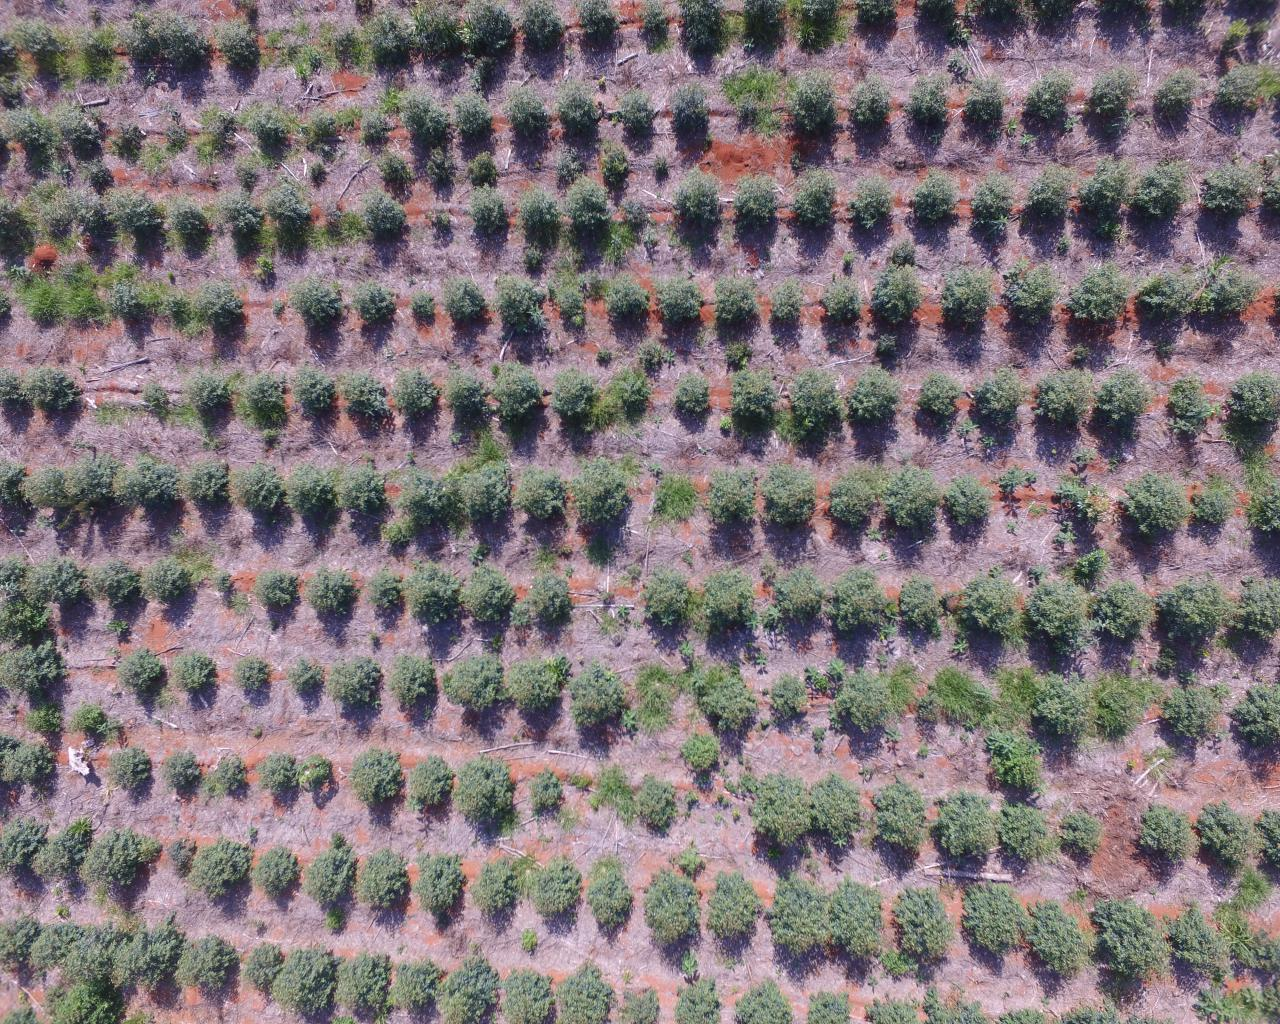Tree: (758, 464, 822, 559), (445, 650, 508, 744), (1200, 150, 1258, 248), (455, 756, 516, 849), (885, 468, 940, 568), (1092, 896, 1159, 978), (1120, 474, 1176, 572), (965, 885, 1021, 980), (846, 366, 900, 464), (72, 452, 128, 546), (506, 658, 562, 750), (1026, 897, 1076, 1000), (772, 876, 822, 978), (964, 578, 1019, 670), (871, 774, 920, 877), (287, 464, 341, 554), (129, 458, 187, 541), (1138, 801, 1192, 889), (290, 280, 345, 366), (676, 166, 722, 267), (731, 172, 780, 266), (831, 567, 878, 665), (706, 468, 756, 559), (1069, 256, 1123, 340), (360, 850, 412, 937), (1034, 364, 1088, 447), (414, 853, 468, 935), (198, 840, 252, 922), (304, 567, 360, 646), (1086, 56, 1138, 141), (1207, 60, 1260, 143), (940, 263, 986, 358), (791, 169, 839, 260), (29, 368, 86, 444), (572, 467, 632, 539), (236, 464, 286, 550), (1040, 679, 1086, 772), (1098, 367, 1146, 455), (830, 880, 876, 971), (711, 870, 759, 957), (1159, 576, 1220, 644), (351, 747, 403, 826), (1139, 152, 1178, 256), (789, 66, 839, 147), (1229, 590, 1279, 671), (646, 872, 699, 948), (1132, 268, 1190, 337), (584, 872, 636, 948), (572, 670, 619, 754), (1164, 896, 1206, 989), (516, 468, 566, 546), (361, 194, 412, 269), (1001, 285, 1054, 357), (327, 656, 375, 734), (944, 476, 994, 550), (940, 795, 982, 883), (756, 776, 808, 847), (520, 0, 568, 76), (1106, 584, 1152, 662), (909, 172, 960, 242), (268, 185, 316, 257), (445, 276, 490, 352), (339, 470, 384, 546), (462, 564, 515, 628), (1018, 64, 1075, 123), (851, 73, 890, 159), (1167, 680, 1211, 756), (850, 177, 892, 256), (469, 857, 513, 932), (149, 560, 198, 626), (190, 465, 233, 540), (578, 0, 624, 70), (1153, 66, 1194, 144), (407, 569, 462, 627), (899, 887, 950, 949), (506, 82, 546, 161), (900, 72, 954, 130), (254, 850, 304, 912), (1228, 374, 1276, 438), (1078, 151, 1128, 212), (392, 366, 442, 427), (899, 576, 940, 650), (217, 24, 260, 94), (976, 366, 1024, 428), (386, 652, 440, 707), (1198, 800, 1246, 861), (810, 776, 861, 833), (352, 284, 398, 347), (870, 265, 916, 328), (787, 366, 842, 418), (470, 185, 510, 256), (702, 568, 753, 623), (202, 285, 240, 358), (525, 570, 578, 622), (1026, 580, 1080, 631), (109, 748, 158, 804), (555, 84, 599, 146), (364, 566, 405, 632), (659, 282, 702, 344), (537, 872, 579, 935), (997, 800, 1033, 872), (224, 194, 264, 258), (402, 93, 450, 146), (32, 558, 88, 603), (518, 182, 562, 239), (291, 371, 340, 422), (442, 370, 491, 421), (608, 285, 651, 343), (716, 280, 756, 342), (830, 478, 865, 548), (255, 752, 297, 810), (100, 559, 144, 614), (454, 91, 495, 150), (284, 655, 324, 715), (856, 0, 899, 55), (644, 568, 694, 615), (1028, 160, 1067, 220), (636, 782, 676, 840), (915, 374, 963, 422), (672, 373, 713, 429), (0, 744, 57, 784), (668, 81, 711, 133), (549, 362, 593, 412), (255, 570, 300, 617), (774, 571, 822, 615), (174, 205, 213, 259), (964, 72, 1004, 124), (822, 281, 860, 335), (734, 372, 777, 418), (524, 766, 564, 815), (620, 90, 654, 146), (773, 674, 807, 729), (236, 652, 271, 705), (99, 834, 140, 879), (769, 277, 802, 332), (187, 371, 230, 413), (172, 653, 218, 692), (165, 750, 201, 799), (1064, 813, 1096, 868), (131, 203, 161, 261), (1193, 488, 1225, 542), (574, 181, 603, 240), (162, 831, 195, 882), (973, 171, 1012, 213), (406, 292, 441, 331), (125, 652, 162, 686), (362, 112, 392, 152)
Wood: (924, 866, 1016, 884)
